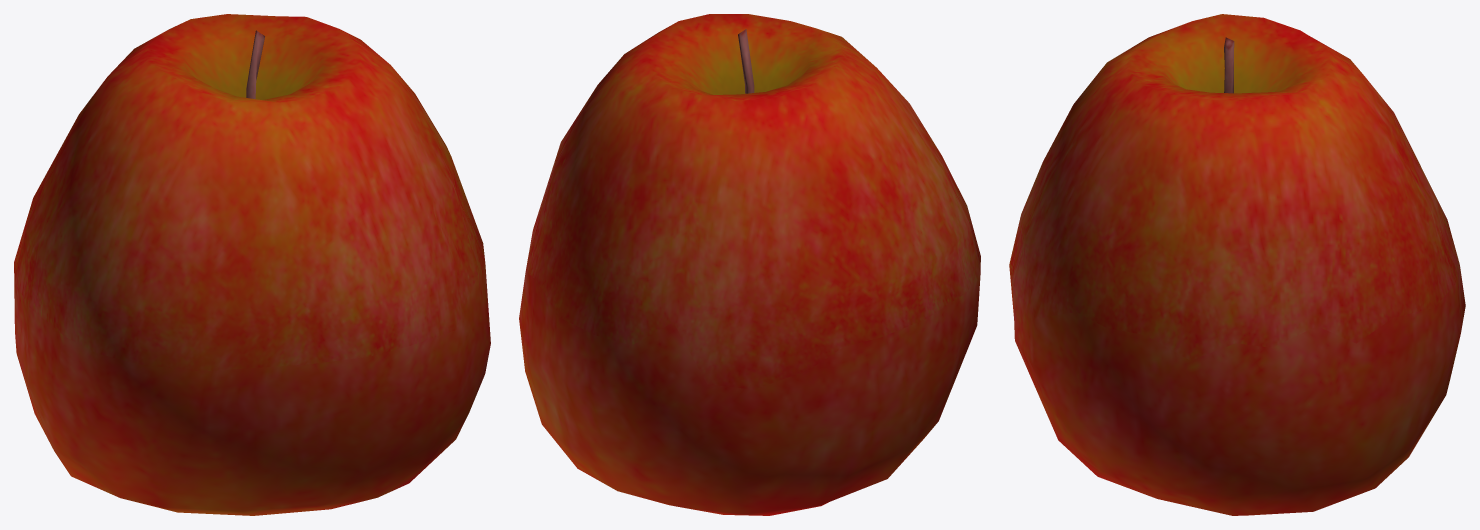
The model's file is Apple_23.obj.
The picture shows the model from 3 angles, left to right: view 1: azimuth 30°, elevation 25°; view 2: azimuth 150°, elevation 25°; view 3: azimuth 270°, elevation 25°; orthographic projection. The views are drawn at different scales.
Visible parts, largest first — view 1: apple_b8; view 2: apple_b8; view 3: apple_b8.
Boxes of the visible parts, left/top/right/bottom form: apple_b8: left=14, top=14, right=490, bottom=515; apple_b8: left=519, top=14, right=980, bottom=515; apple_b8: left=1009, top=14, right=1465, bottom=515.
Bounding box in the file's own units: 0.1024 × 0.1048 × 0.1029.
